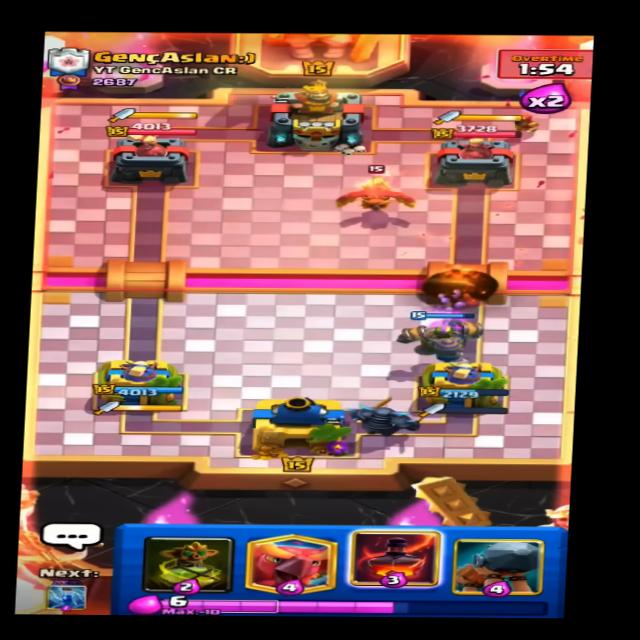Pheonix: (321, 167, 434, 218)
Wizard: (503, 109, 547, 135)
